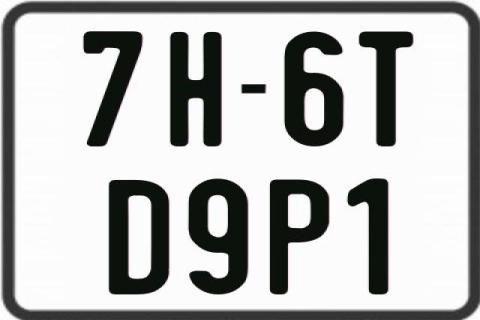0: (80, 31, 145, 147), (188, 178, 250, 298), (282, 31, 344, 149), (344, 178, 388, 298)
D: (109, 179, 173, 293)
H: (167, 30, 219, 146)
P: (267, 177, 332, 293)
T: (360, 30, 416, 150)
